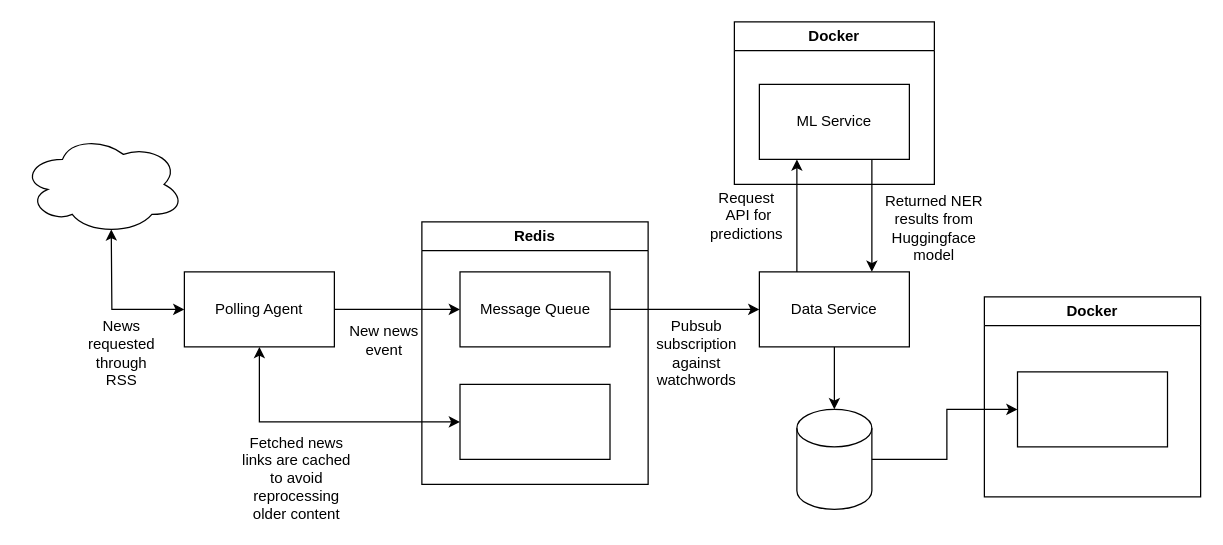
Image size: 1223x545. Some labels were removed from this diagram. Here are the shapes that lost their labels. From the top down, the centre of each, then its label:
(102,183): News Sources
(534,421): Cache
(1092,409): Plotly Dash App
(834,458): MySQL DB
